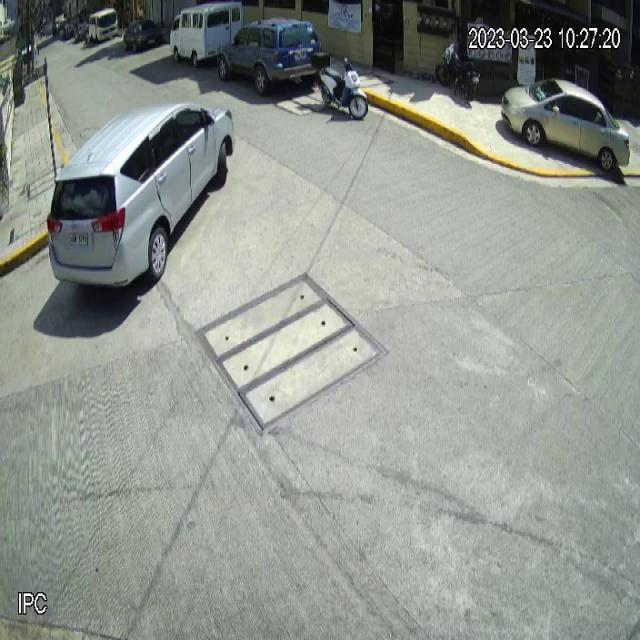Car: (47, 101, 236, 289), (501, 76, 631, 171), (219, 15, 325, 94)
Motorcycle: (312, 48, 369, 120)
Van: (169, 2, 244, 69)
